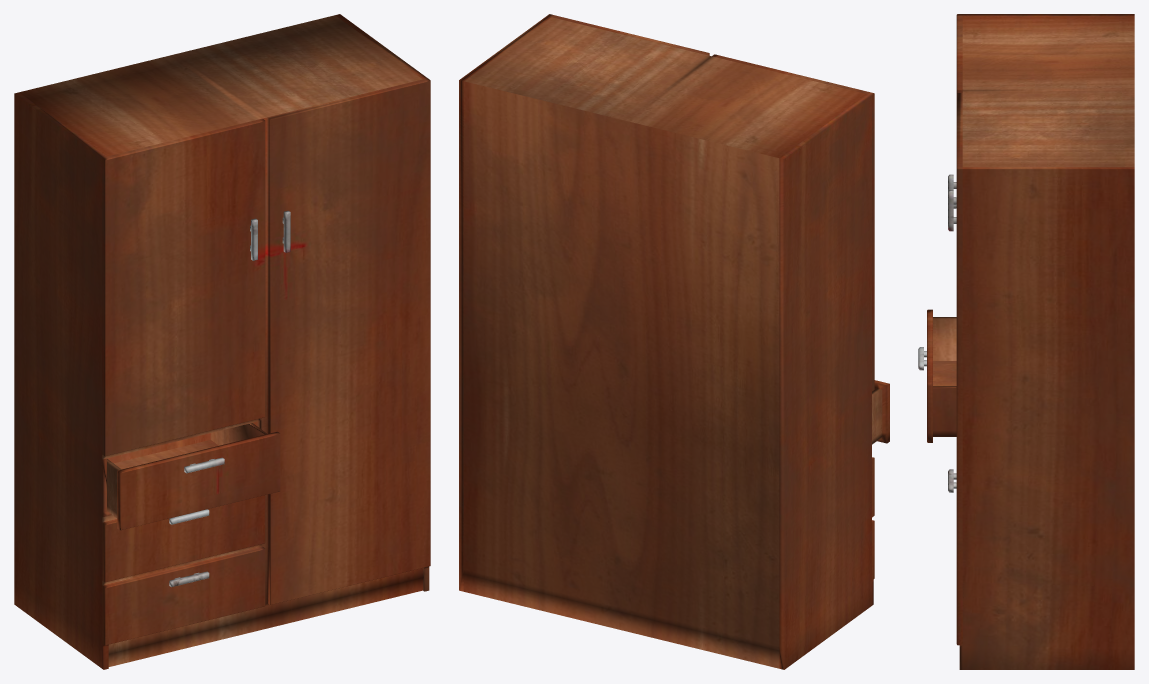
3 views of the same model, side by side, from view 1: azimuth 30°, elevation 25°; view 2: azimuth 150°, elevation 25°; view 3: azimuth 270°, elevation 25° (orthographic). The views are drawn at different scales.
Parts seen in each view (by area): view 1: defaultobject; view 2: defaultobject; view 3: defaultobject.
Part boxes in pixels (<box>): defaultobject: <box>14,14,430,669</box>; defaultobject: <box>459,14,889,669</box>; defaultobject: <box>918,14,1134,669</box>.
Size of the model in its own units: 1.33 by 2 by 0.783.
Materials: 1 (1 with a texture image).
